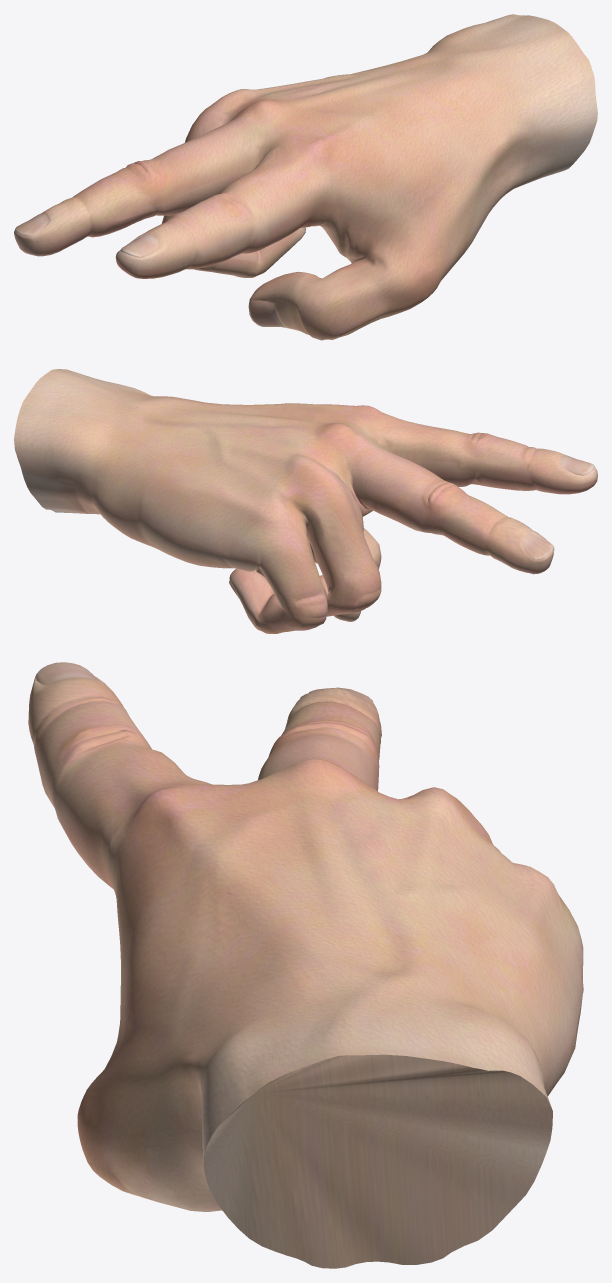
Rendered from hand_31.obj.
3 renders of one model, top to bottom at view 1: azimuth 30°, elevation 25°; view 2: azimuth 150°, elevation 25°; view 3: azimuth 270°, elevation 25°, orthographic. The views are drawn at different scales.
Parts seen in each view (by area): view 1: Figure_2; view 2: Figure_2; view 3: Figure_2.
Boxes of the visible parts, x1=… form: Figure_2: x1=14, y1=14, x2=597, y2=340; Figure_2: x1=14, y1=369, x2=597, y2=633; Figure_2: x1=28, y1=662, x2=583, y2=1268.
Bounding box in the file's own units: 0.8962 × 0.3399 × 0.4294.
Materials: 2 (2 with a texture image).
